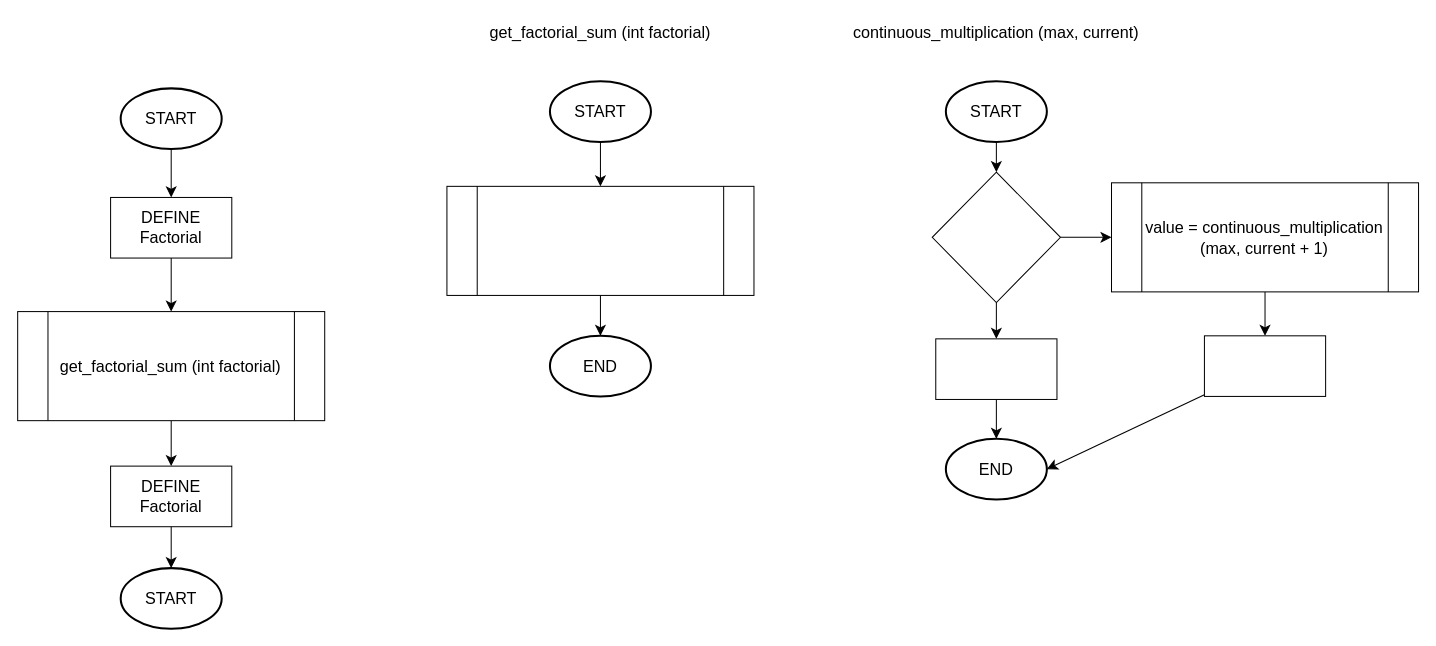
The diagram is 1436 pixels wide and 646 high, and some of its shapes have lost their labels. The shapes that lost their labels are listed below. From the top down, each one's centre as x and y in pixels, then its label:
the point at 600,240: continuous_multiplication (factorial, 1)
the point at 995,236: current = max
the point at 996,368: return current
the point at 1264,365: return current + value
